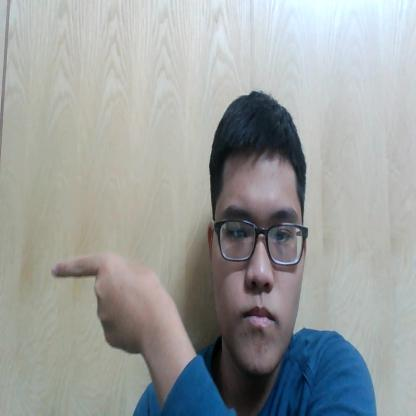right: (44, 245, 177, 366)
